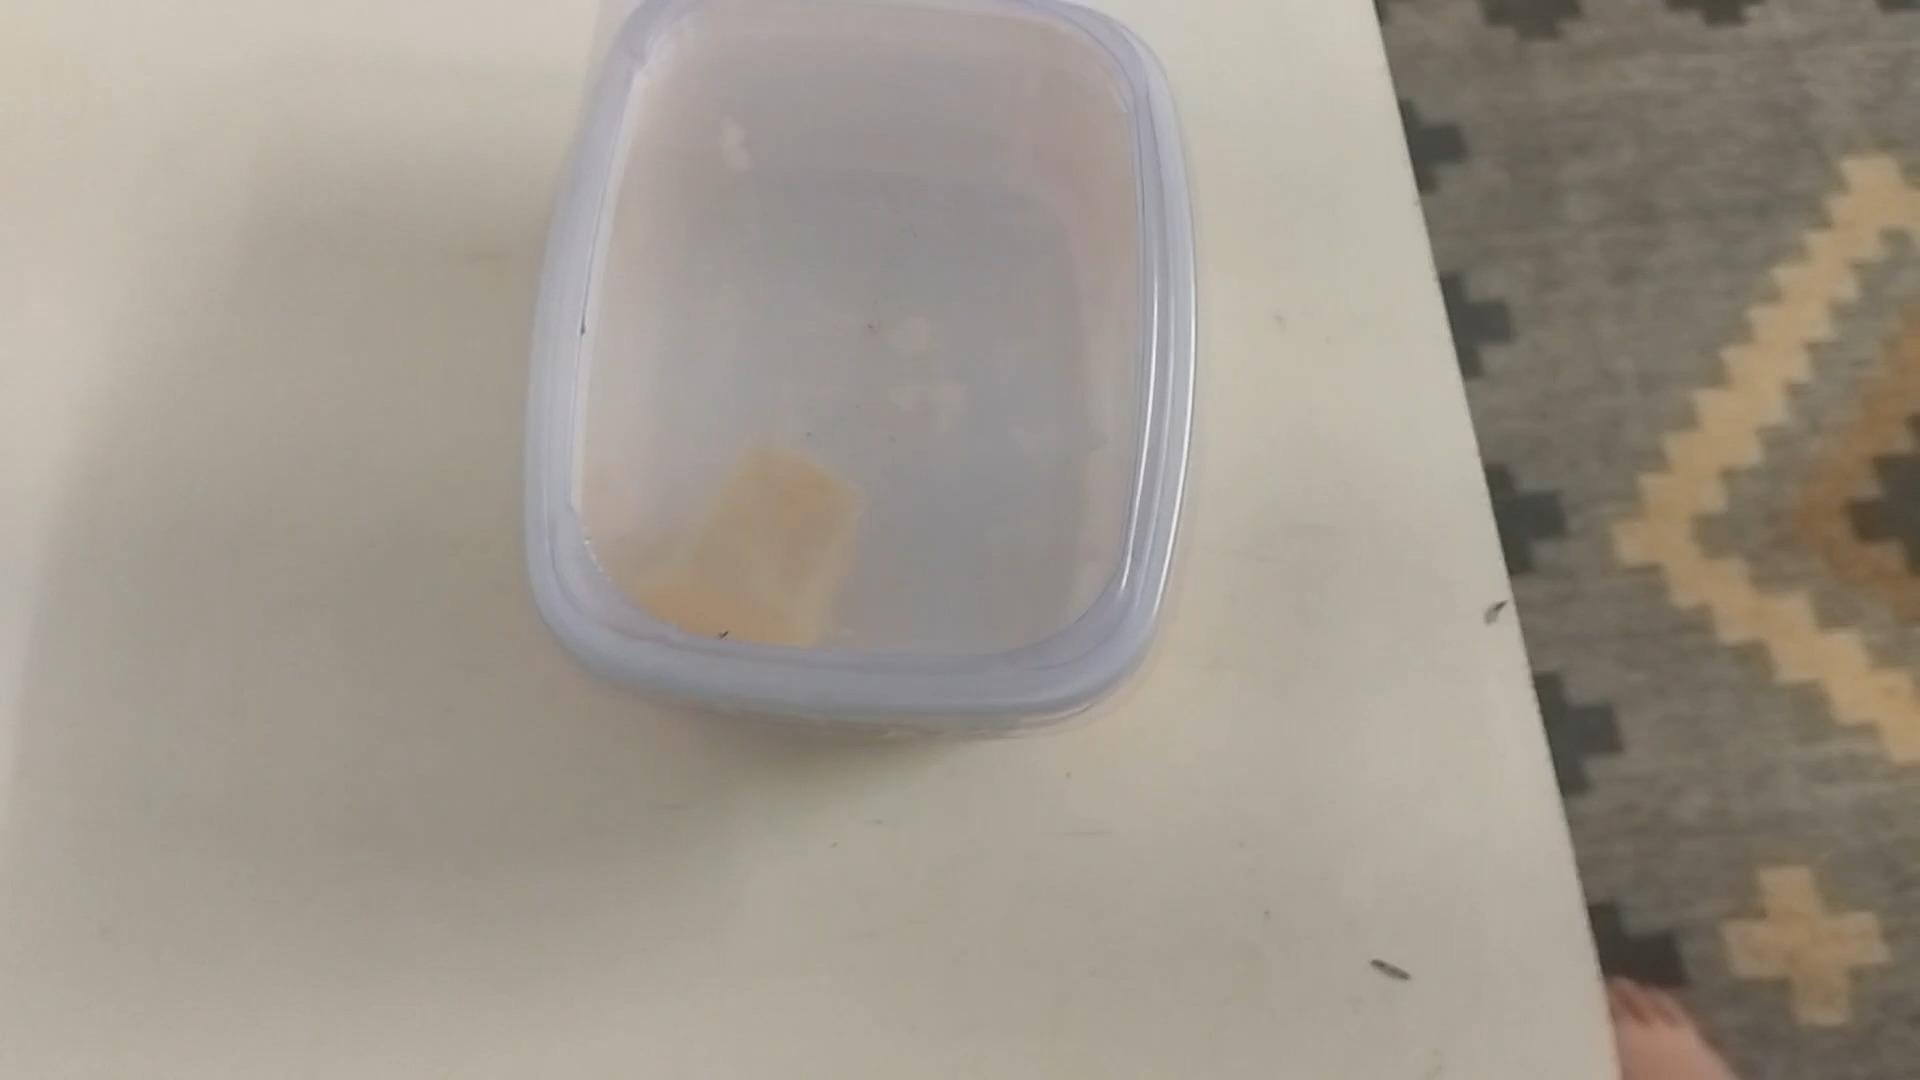butter: (525, 3, 1178, 733)
